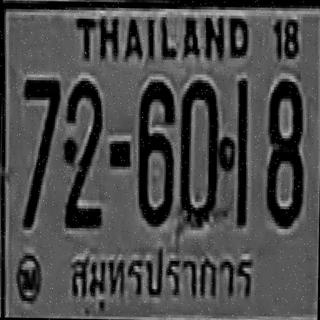N00: (178, 77, 218, 225)
N01: (235, 78, 248, 225)
N02: (62, 78, 102, 226)
N06: (137, 79, 174, 224)
N07: (20, 77, 59, 228)
N08: (265, 77, 304, 225)
P57: (68, 242, 256, 311)
